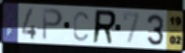3: (146, 13, 165, 47)
4: (20, 7, 38, 41)
7: (121, 10, 143, 46)
C: (72, 10, 90, 43)
P: (41, 7, 64, 42)
R: (91, 9, 118, 46)
